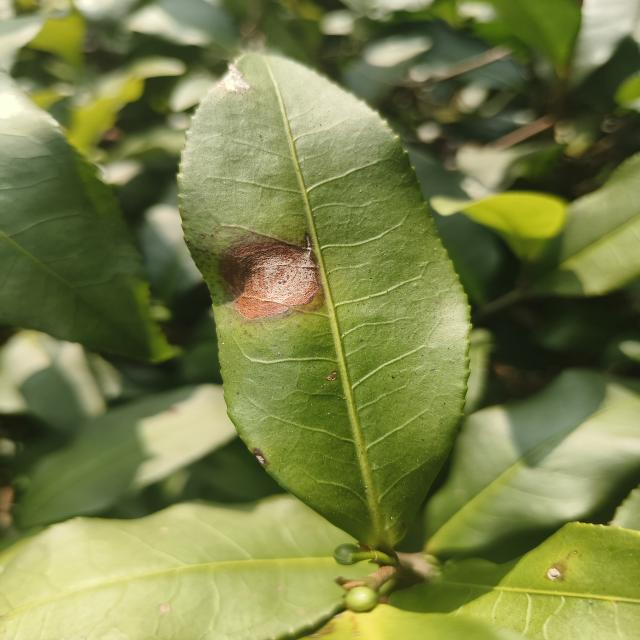Leaf: (178, 53, 468, 554), (0, 496, 347, 640), (0, 75, 171, 362), (426, 369, 640, 561), (20, 384, 237, 526), (391, 522, 640, 640), (534, 153, 640, 296), (67, 57, 183, 154), (430, 191, 566, 259), (487, 0, 581, 69), (27, 10, 86, 67)
